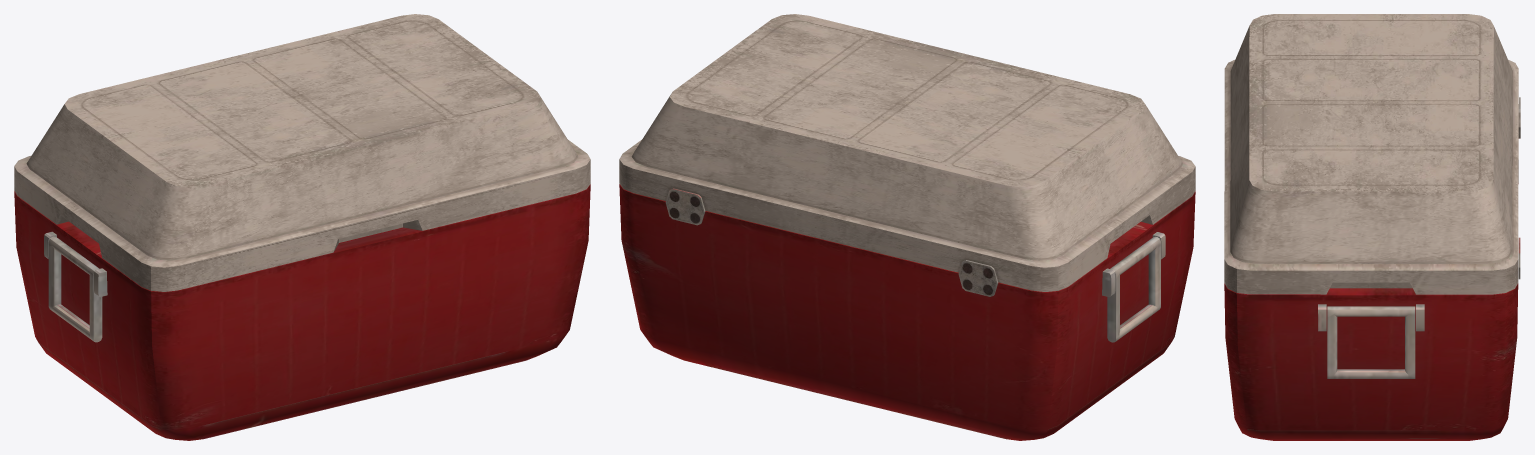
File: esky.glb
3 views of the same model, side by side, from view 1: azimuth 30°, elevation 25°; view 2: azimuth 150°, elevation 25°; view 3: azimuth 270°, elevation 25° (orthographic).
Visible parts, largest first — view 1: realscale; view 2: realscale; view 3: realscale.
Boxes of the visible parts, x1,y1,x2,y2 form: realscale: (14, 14, 590, 440); realscale: (619, 14, 1195, 440); realscale: (1224, 14, 1520, 440).
Size of the model in its own units: 0.7548 by 0.4 by 0.4266.
Materials: 1 (1 with a texture image).
